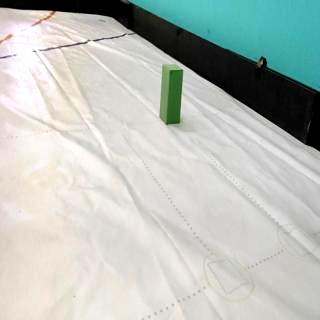greenbox: (158, 64, 184, 124)
